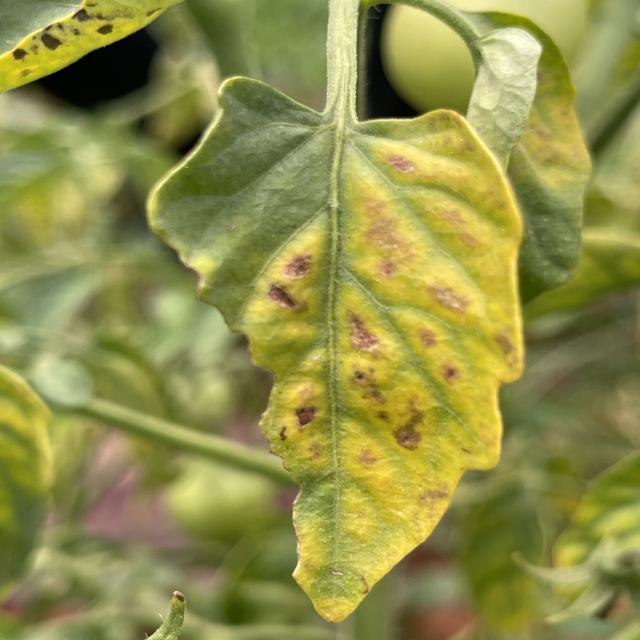tomato_early blight: (140, 72, 514, 626), (466, 15, 597, 303), (0, 0, 177, 97)
